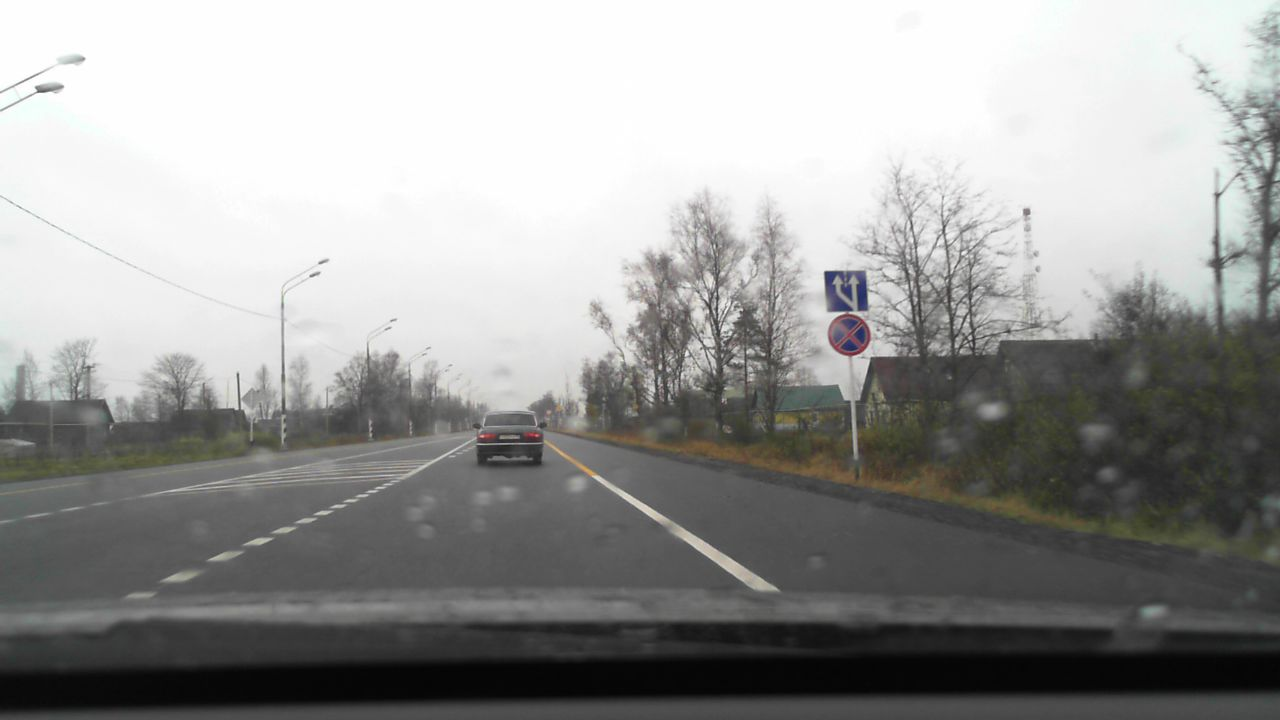No Parking: (827, 314, 870, 355)
